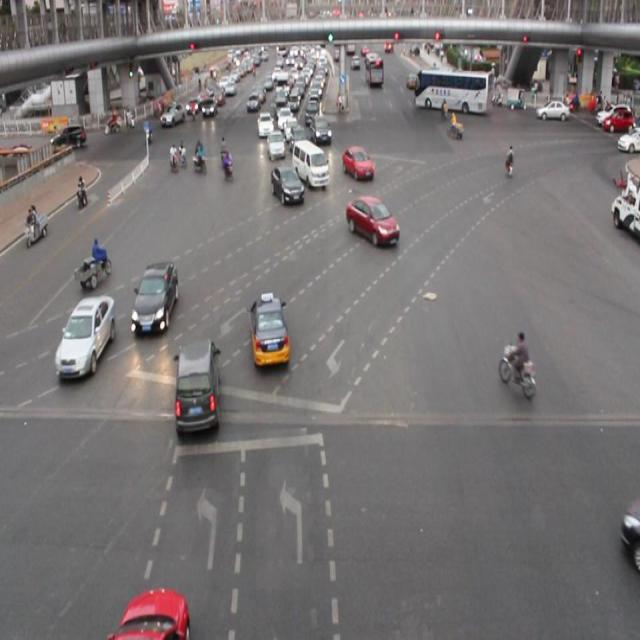BigCar: (414, 66, 492, 116)
car: (54, 295, 115, 388), (172, 331, 222, 439), (130, 252, 177, 345), (245, 293, 292, 367), (344, 193, 401, 250), (267, 164, 303, 215), (294, 145, 332, 189), (341, 145, 372, 184), (537, 98, 566, 125), (604, 107, 634, 132), (159, 102, 184, 129), (311, 113, 332, 142), (258, 108, 276, 136), (269, 134, 285, 159), (243, 91, 258, 114), (201, 97, 216, 116), (188, 91, 198, 115)
